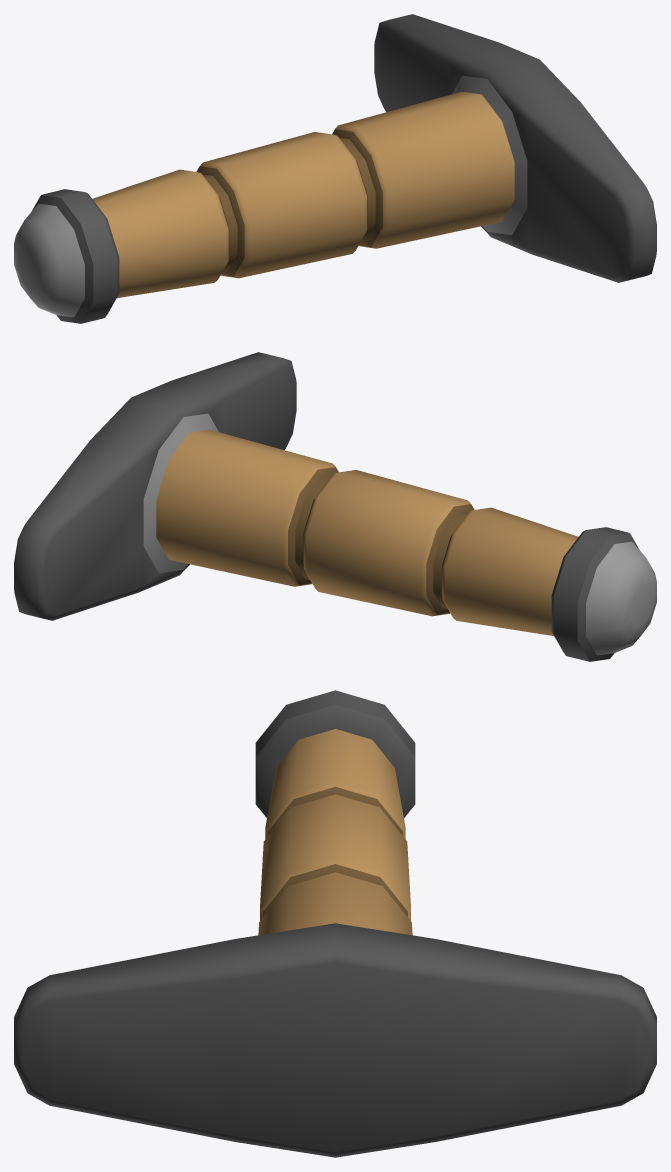
Rendered from ToyHandleWeapon.FBX.
The picture shows the model from 3 angles, top to bottom: view 1: azimuth 30°, elevation 25°; view 2: azimuth 150°, elevation 25°; view 3: azimuth 270°, elevation 25°; orthographic projection. The views are drawn at different scales.
Visible parts, largest first — view 1: Sword; view 2: Sword; view 3: Sword.
Part boxes in pixels (x1,y1,x2,y2): Sword: (14, 14, 656, 323); Sword: (14, 352, 656, 661); Sword: (14, 690, 656, 1157).
Bounding box in the file's own units: 87.41 × 26.91 × 76.48.
